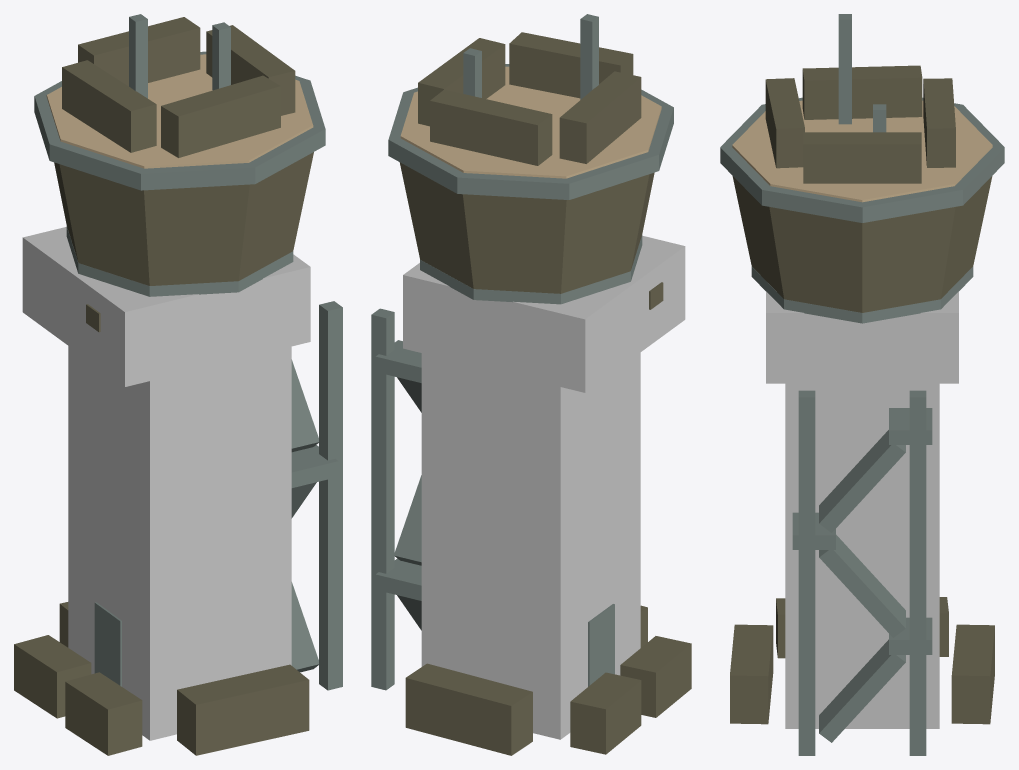
File: SM_TorreControl_v2_LOD1.fbx
3 renders of one model, left to right at view 1: azimuth 30°, elevation 25°; view 2: azimuth 150°, elevation 25°; view 3: azimuth 270°, elevation 25°, orthographic. The views are drawn at different scales.
Parts seen in each view (by area): view 1: SM_torre_control_v2_LOD1; view 2: SM_torre_control_v2_LOD1; view 3: SM_torre_control_v2_LOD1.
Boxes of the visible parts, x1=… form: SM_torre_control_v2_LOD1: x1=14, y1=14, x2=342, y2=755; SM_torre_control_v2_LOD1: x1=371, y1=14, x2=691, y2=755; SM_torre_control_v2_LOD1: x1=720, y1=14, x2=1004, y2=755.
Bounding box in the file's own units: 5.9 × 15.01 × 5.9.
